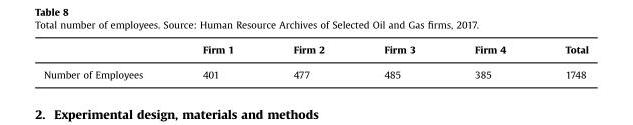table: (43, 43, 587, 79)
table column: (43, 43, 172, 79), (262, 43, 353, 79), (353, 43, 444, 79), (172, 43, 262, 79), (444, 43, 534, 79), (534, 43, 587, 79)
table column header: (43, 43, 587, 61)
table row: (43, 43, 587, 61), (43, 61, 587, 79)
